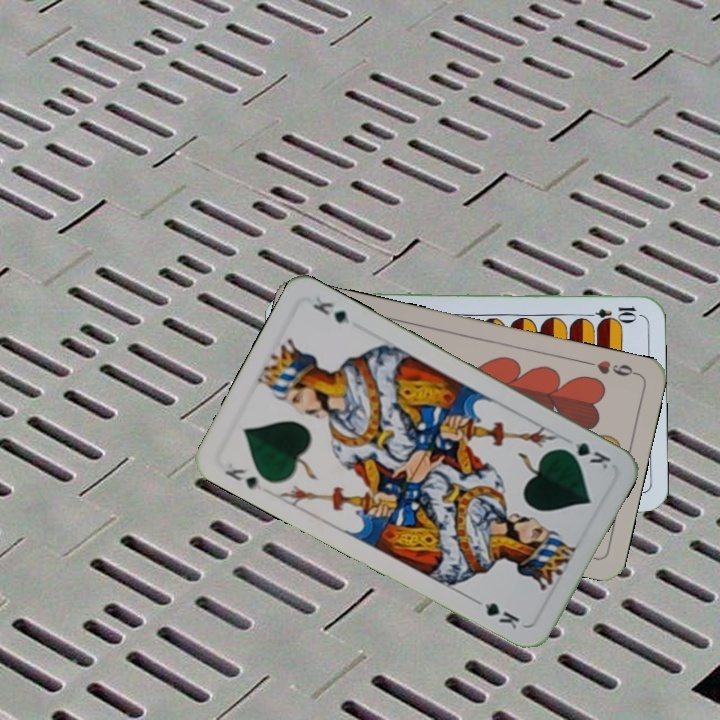E10: (580, 303, 639, 321)
GK: (557, 438, 613, 472), (221, 464, 266, 493)
H9: (582, 356, 641, 379)
